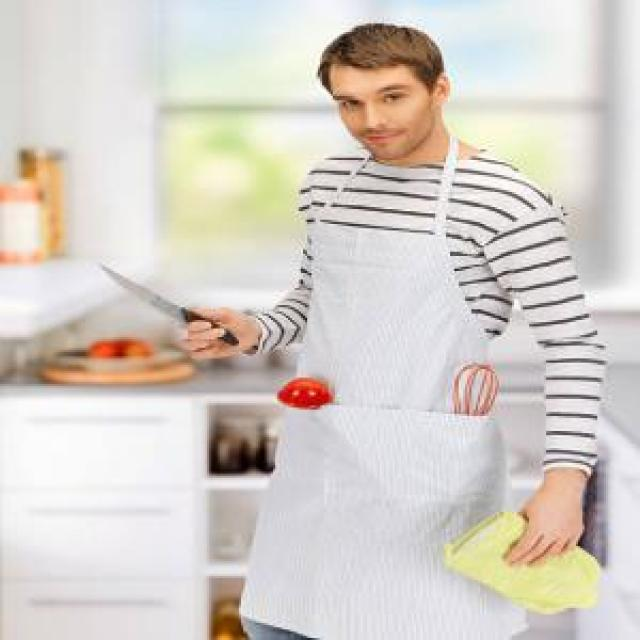knife: (92, 260, 256, 352)
